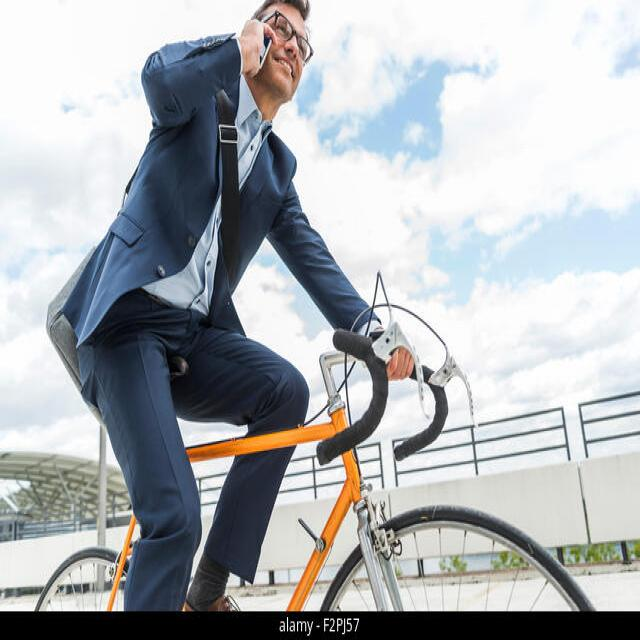Not Wearing Helmet: (232, 0, 333, 132)
Usage Of Phone While Riding: (175, 0, 385, 243)
